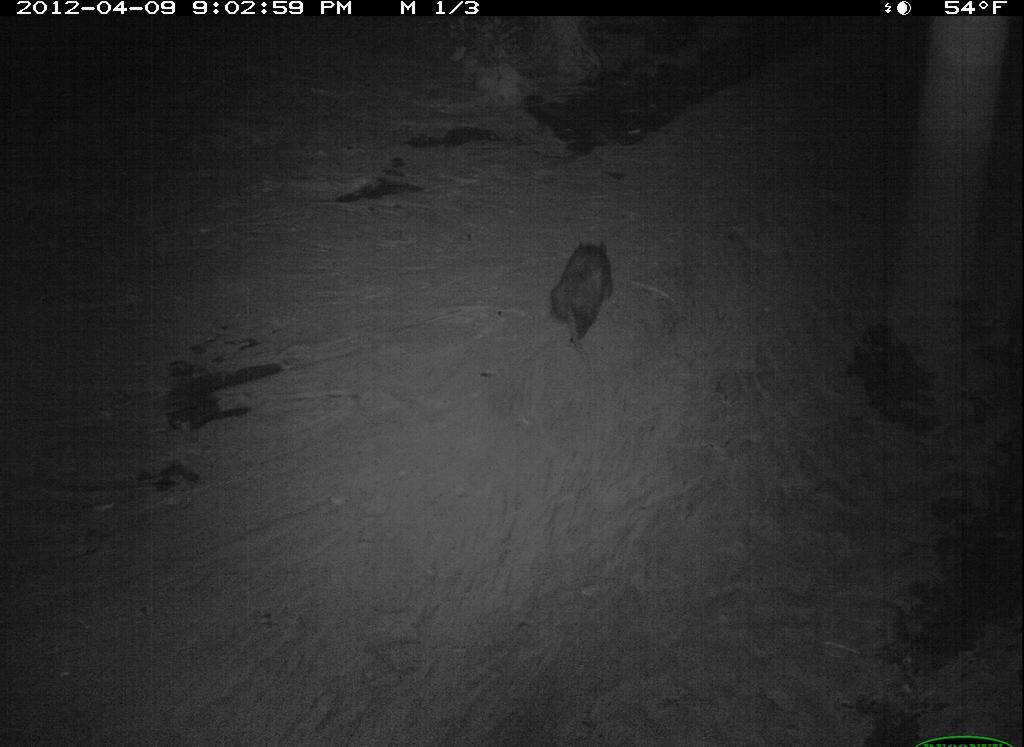opossum: (527, 231, 661, 367)
